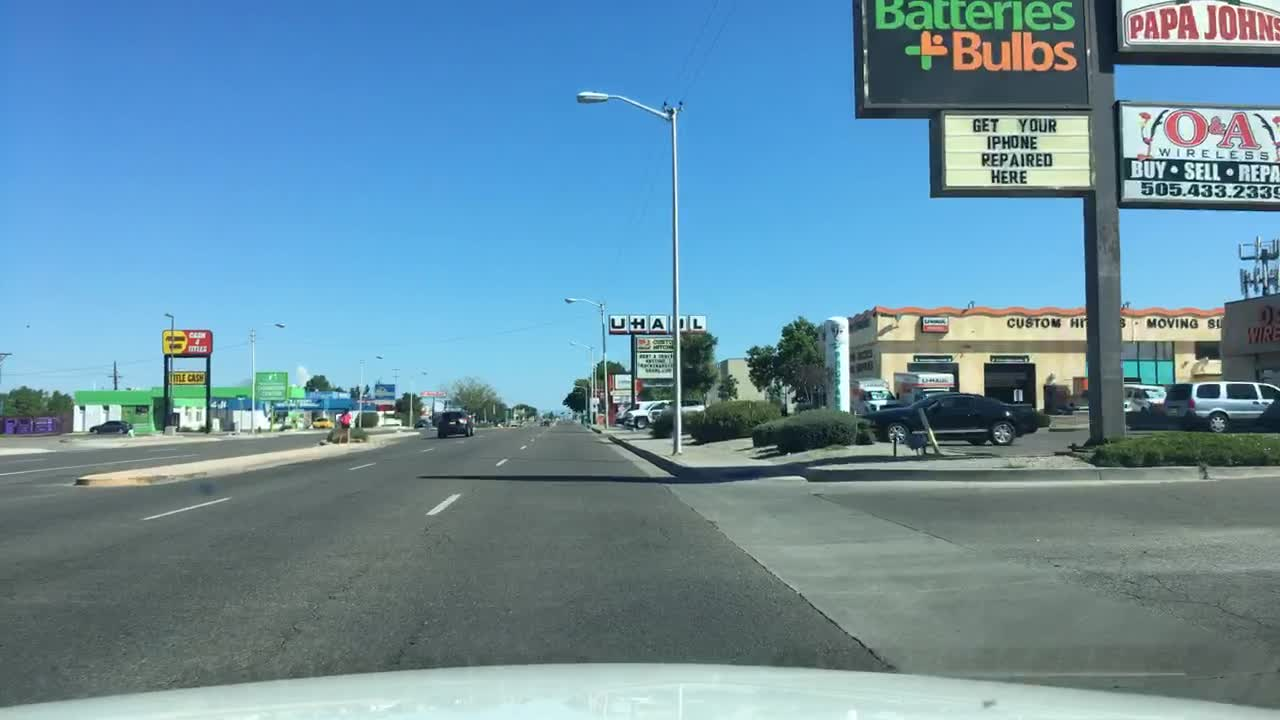car: (857, 390, 1038, 448), (1158, 379, 1277, 434), (1065, 380, 1163, 413), (646, 397, 707, 440), (845, 385, 903, 412), (631, 398, 678, 431), (436, 408, 476, 439), (625, 400, 656, 431), (86, 421, 133, 434), (613, 401, 633, 426), (310, 417, 336, 430), (278, 424, 294, 433), (412, 419, 428, 427), (539, 418, 551, 428)
person: (335, 410, 352, 447)
